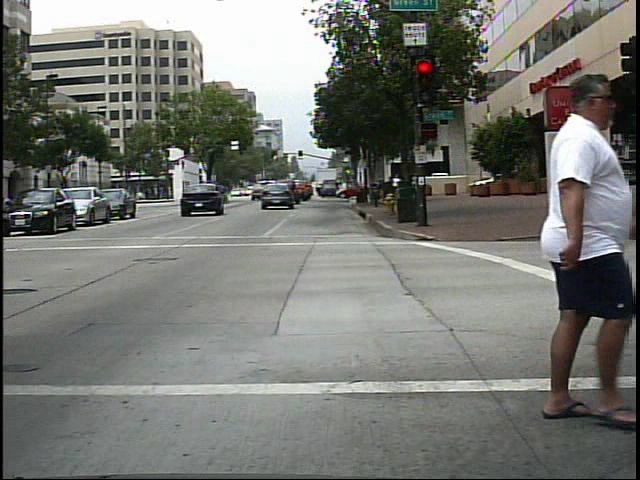person: (504, 68, 626, 427)
